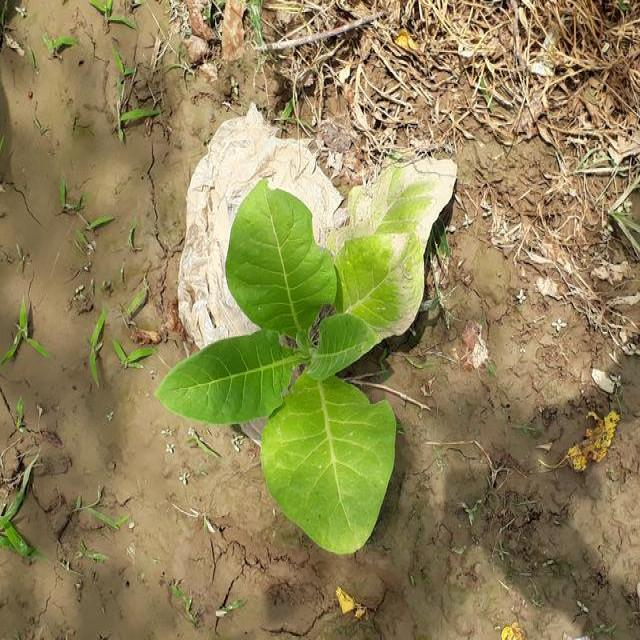crop: (158, 118, 450, 554)
